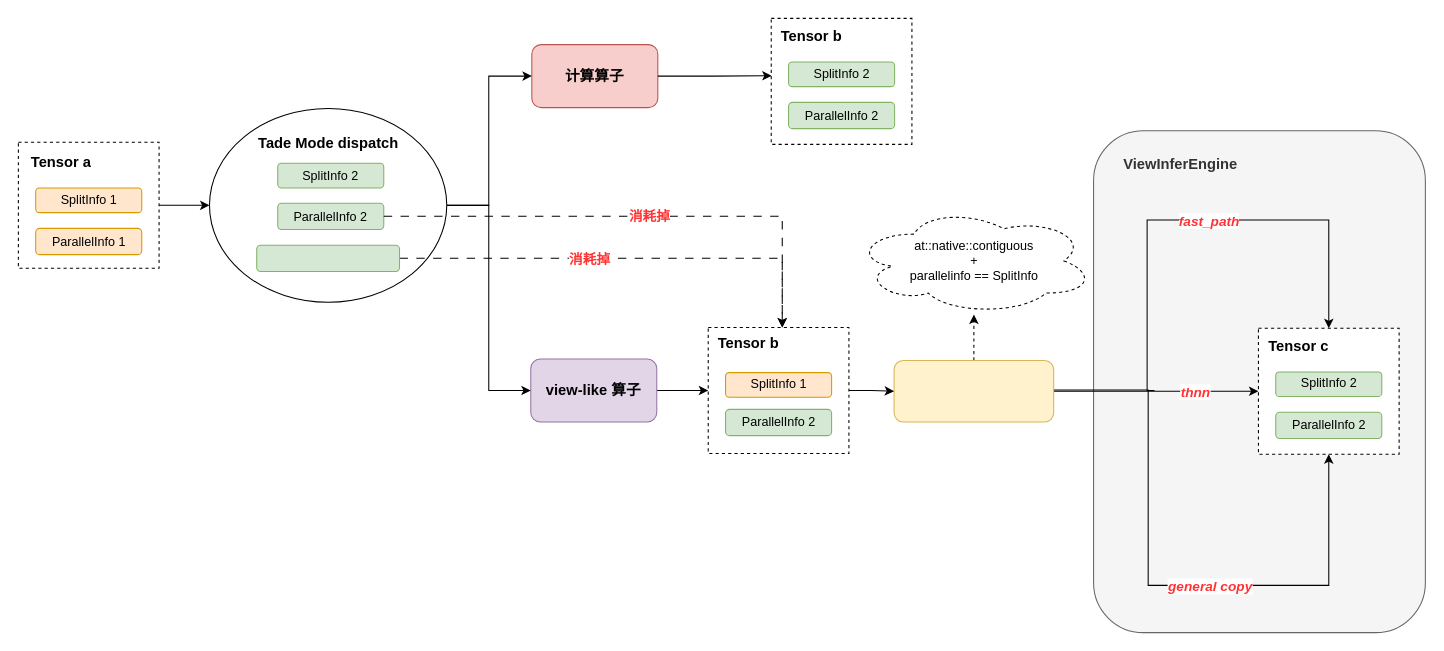
The diagram is 1444 pixels wide and 651 high, and some of its shapes have lost their labels. Each missing label, with the centre of its shape:
"is_thrive_contiguous" belongs at pixel 973 390.
"MeshAllocInfosManager" belongs at pixel 328 257.
